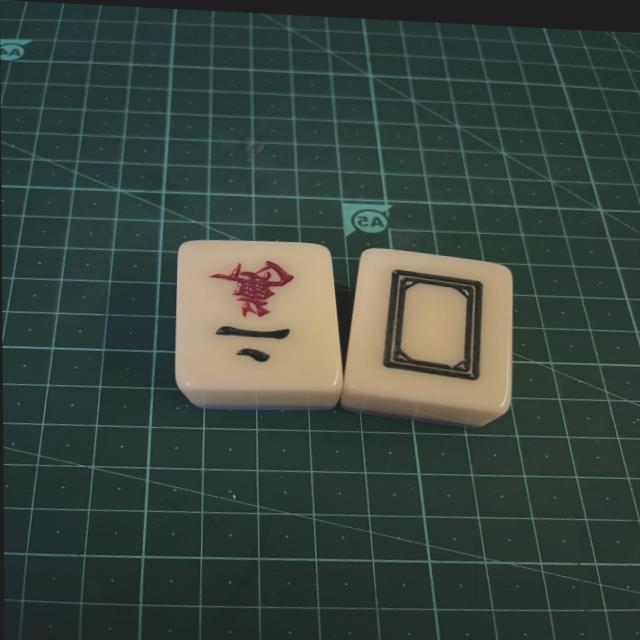bai: (362, 260, 502, 392)
m2: (176, 244, 344, 397)
